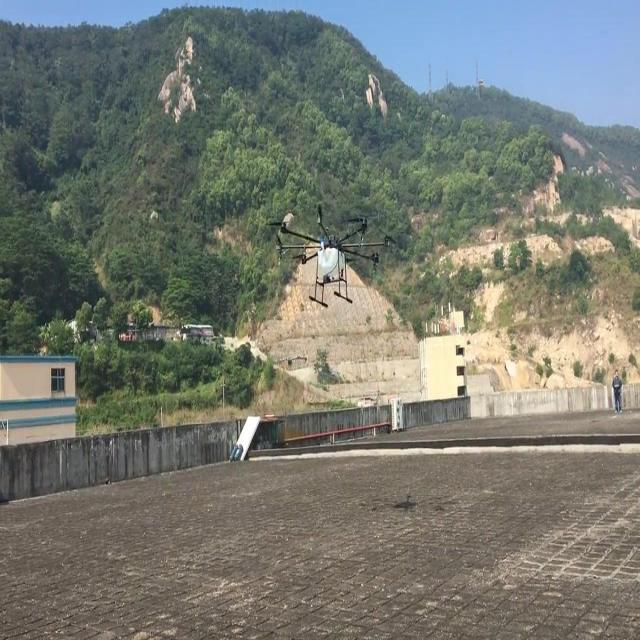UAV: (266, 205, 397, 308)
